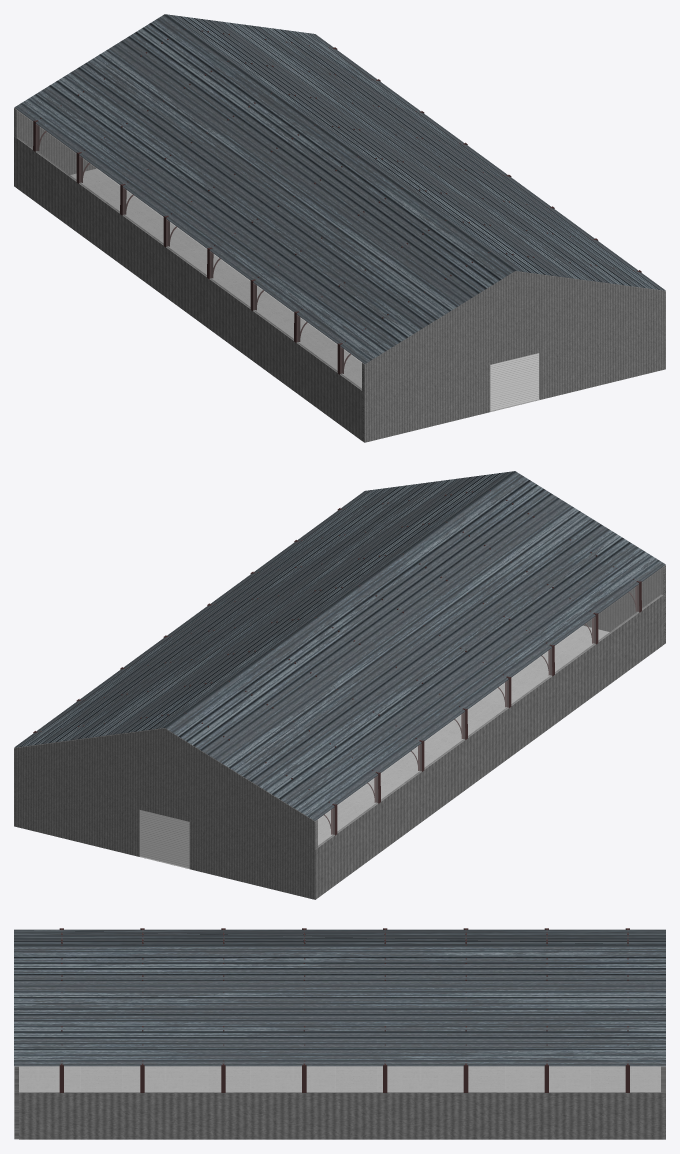
Rendered from Bodega_lineal.fbx.
The picture shows the model from 3 angles, top to bottom: view 1: azimuth 30°, elevation 25°; view 2: azimuth 150°, elevation 25°; view 3: azimuth 270°, elevation 25°; orthographic projection. The views are drawn at different scales.
Visible parts, largest first — view 1: pPlane2, pPlane1, polySurface11, polySurface2, polySurface4, polySurface12, polySurface9, pCube1, polySurface15; view 2: pPlane2, pPlane1, polySurface15, polySurface2, polySurface4, polySurface12, polySurface9, pCube2, polySurface11; view 3: pPlane1, polySurface3, polySurface5, polySurface12, pPlane2, polySurface9, polySurface11.
Part boxes in pixels (box(x1,y1,x2,y2)): pPlane2: box(14, 14, 514, 363); pPlane1: box(165, 14, 665, 290); polySurface11: box(362, 271, 665, 442); polySurface2: box(14, 136, 361, 440); polySurface4: box(14, 109, 361, 390); polySurface12: box(70, 168, 361, 388); polySurface9: box(33, 29, 641, 374); pCube1: box(490, 353, 539, 410); polySurface15: box(14, 108, 96, 174); pPlane2: box(165, 471, 665, 820); pPlane1: box(14, 471, 514, 747); polySurface15: box(14, 728, 317, 899); polySurface2: box(315, 594, 663, 899); polySurface4: box(316, 567, 662, 848); polySurface12: box(318, 625, 609, 845); polySurface9: box(33, 490, 641, 835); pCube2: box(140, 810, 189, 868); polySurface11: box(583, 565, 665, 644); pPlane1: box(14, 945, 665, 1066); polySurface3: box(19, 1092, 665, 1139); polySurface5: box(19, 1067, 665, 1092); polySurface12: box(19, 1066, 660, 1091); pPlane2: box(14, 929, 665, 945); polySurface9: box(59, 928, 629, 1092); polySurface11: box(14, 1066, 18, 1139).
Size of the model in its own units: 20.04 by 8.59 by 40.32.
Materials: 7 (4 with a texture image).
